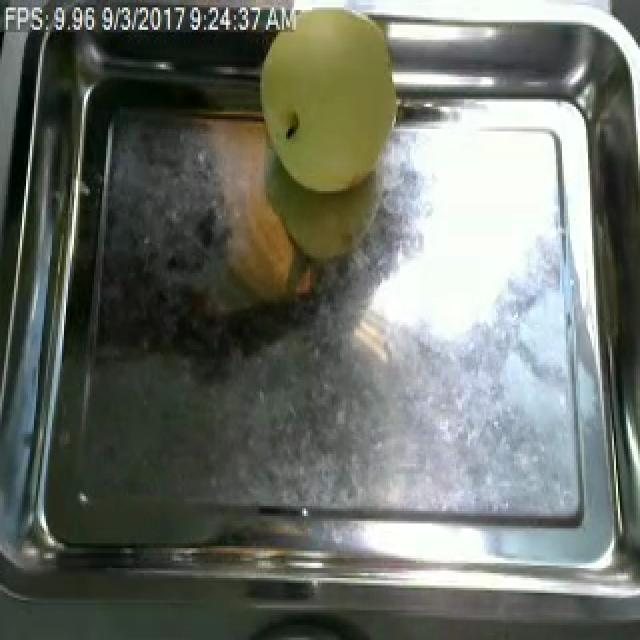Fruit: (244, 0, 418, 208)
